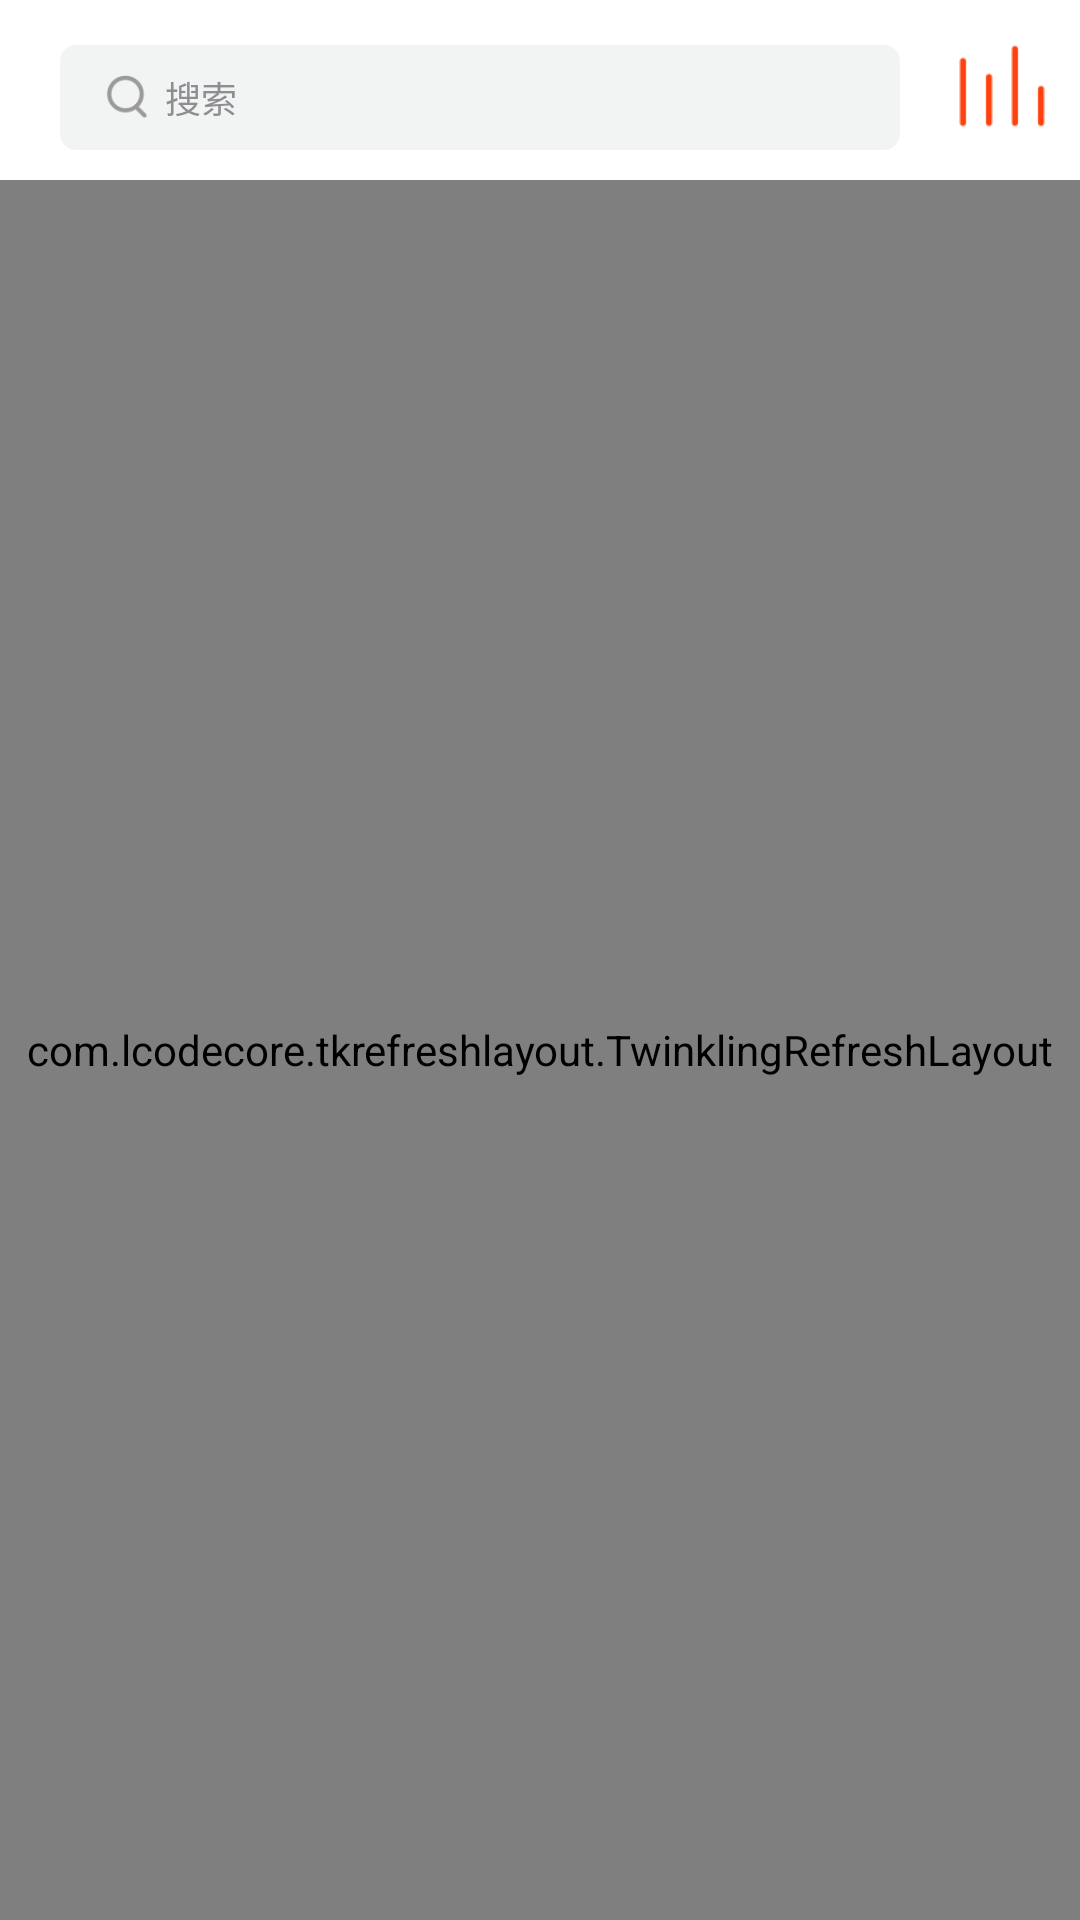

Icon bounding boxes for this 1080px×1920px phone screenshot, format detection(x1, y1, x2, y2):
equalizer: detection(959, 45, 1045, 127)
